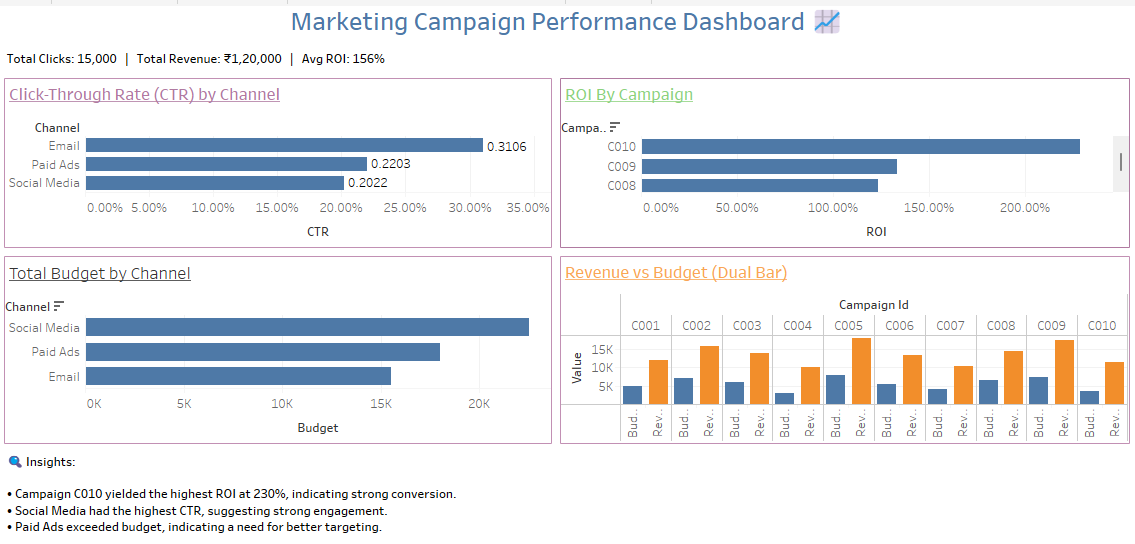

This screenshot's page, from the dashboard's own definition file:
{"tool":"tableau","page":{"name":"Dashboard ","canvas":[1000,1000],"units":"permille","ordinal":0},"visuals":[{"type":"title","box":[7,14.3,986.1,78.3]},{"type":"text","box":[7,92.6,986.1,57.1]},{"type":"worksheet","title":"Click-Through Rate (CTR) by Channel","mark":"Automatic","rows":["channel"],"cols":["Calculation_1055812655393472512"],"box":[7,149.7,483.5,317.8]},{"type":"worksheet","title":"ROI By Campaign","mark":"Automatic","rows":["campaign_id"],"cols":["Calculation_1055812655395246082"],"box":[490.4,149.7,502.6,317.8]},{"type":"worksheet","title":"Total Budget by Channel","mark":"Automatic","rows":["channel"],"cols":["budget"],"box":[7,467.6,483.8,350.3]},{"type":"worksheet","title":"Revenue vs Budget (Dual Bar)","mark":"Automatic","cols":["campaign_id"],"box":[490.7,467.6,502.3,350.3]},{"type":"text","box":[7,817.9,986.1,167.8]}]}

Visuals, with their boxes on the dashboard's canvas, which has no fixed pixel size, in thousandths of its width and height (x1, y1, x2, y2). These are canvas units, not pixel positions in the 1135x544 screenshot, which may show the page scaled, cropped or inside an application window:
title: left=7, top=14, right=993, bottom=93
text: left=7, top=93, right=993, bottom=150
"Click-Through Rate (CTR) by Channel" worksheet: left=7, top=150, right=490, bottom=468
"ROI By Campaign" worksheet: left=490, top=150, right=993, bottom=468
"Total Budget by Channel" worksheet: left=7, top=468, right=491, bottom=818
"Revenue vs Budget (Dual Bar)" worksheet: left=491, top=468, right=993, bottom=818
text: left=7, top=818, right=993, bottom=986
